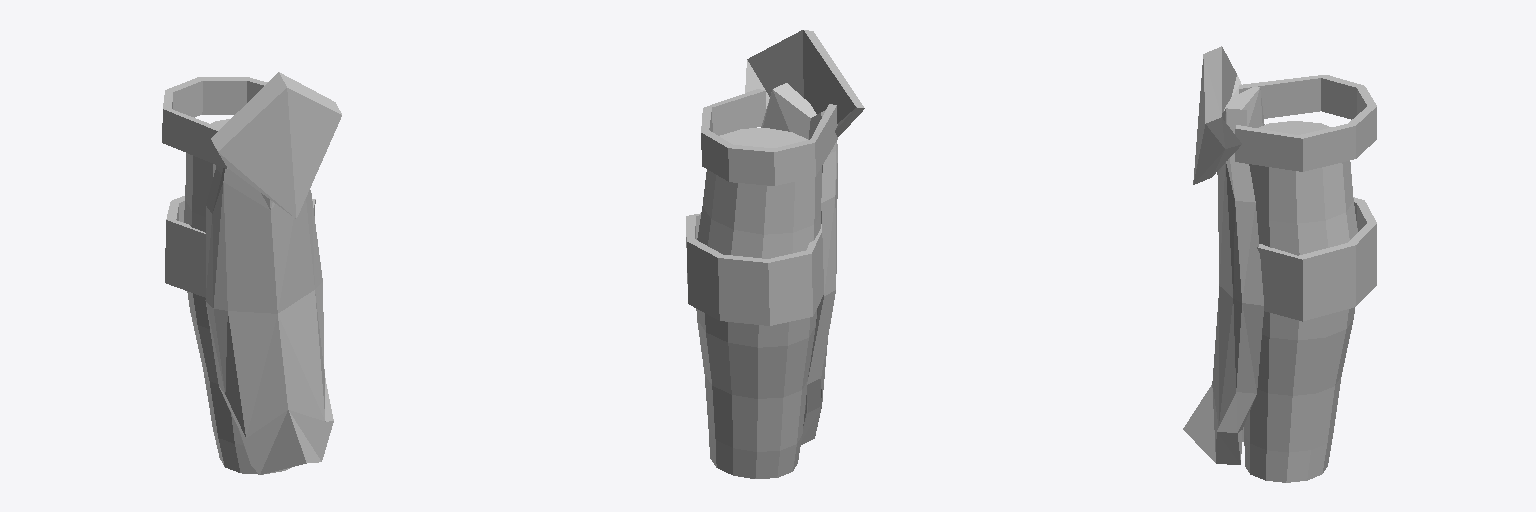
The model's file is LowerLeg_L.obj.
The picture shows the model from 3 angles: view 1: azimuth 30°, elevation 25°; view 2: azimuth 150°, elevation 25°; view 3: azimuth 270°, elevation 25°; orthographic projection.
Parts seen in each view (by area): view 1: pCube58 LowerLeg_L, LowerLeg_L pCube45, LowerLeg_L pCylinder64, LowerLeg_L pPipe29, LowerLeg_L pPipe33; view 2: LowerLeg_L pCylinder64, LowerLeg_L pPipe33, LowerLeg_L pPipe29, pCube58 LowerLeg_L, LowerLeg_L pCube45; view 3: LowerLeg_L pCylinder64, pCube58 LowerLeg_L, LowerLeg_L pPipe29, LowerLeg_L pPipe33, LowerLeg_L pCube45.
Part boxes in pixels (left/top/right/bottom): pCube58 LowerLeg_L: left=205, top=165, right=333, bottom=474; LowerLeg_L pCube45: left=211, top=72, right=341, bottom=218; LowerLeg_L pCylinder64: left=184, top=119, right=291, bottom=474; LowerLeg_L pPipe29: left=162, top=77, right=267, bottom=168; LowerLeg_L pPipe33: left=165, top=196, right=315, bottom=297; LowerLeg_L pCylinder64: left=696, top=128, right=821, bottom=478; LowerLeg_L pPipe33: left=686, top=213, right=823, bottom=325; LowerLeg_L pPipe29: left=701, top=89, right=837, bottom=185; pCube58 LowerLeg_L: left=761, top=83, right=837, bottom=444; LowerLeg_L pCube45: left=745, top=30, right=864, bottom=136; LowerLeg_L pCylinder64: left=1244, top=121, right=1357, bottom=482; pCube58 LowerLeg_L: left=1183, top=86, right=1264, bottom=464; LowerLeg_L pPipe29: left=1235, top=75, right=1376, bottom=171; LowerLeg_L pPipe33: left=1257, top=197, right=1376, bottom=321; LowerLeg_L pCube45: left=1193, top=46, right=1241, bottom=184.
Bounding box in the file's own units: 1.2 × 3.34 × 1.43.